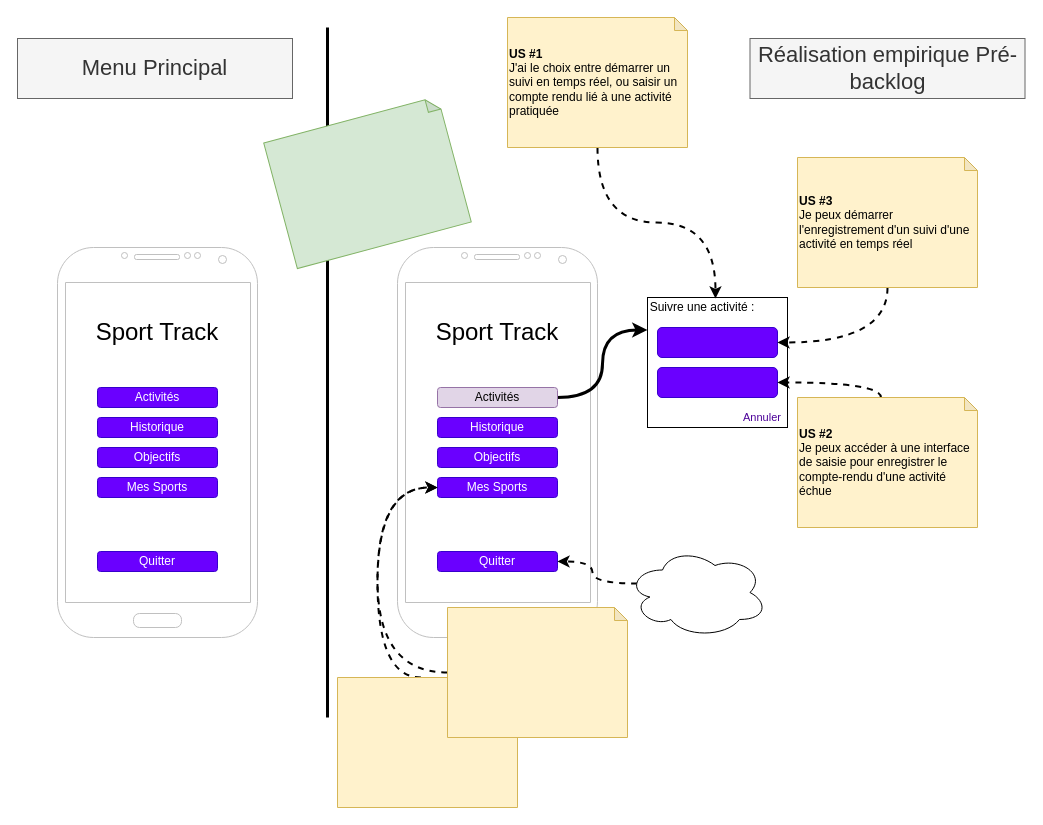
Some shapes in this 1043 by 825 pixel diagram are drawn without their labels. The shapes that lost their labels are listed below. From the top down, each one's centre as x and y in pixels, then its label:
[367,182]: RC #0.1.0
[717,342]: Démarrer une session
[717,382]: Saisir un compte rendu
[697,592]: Fermeture complète de l'app (!= back)
[537,672]: US #14 Je peux consulter la liste des sports enregistrés
[427,742]: US #12 Je peux créer/modifier/supprimer un sport
